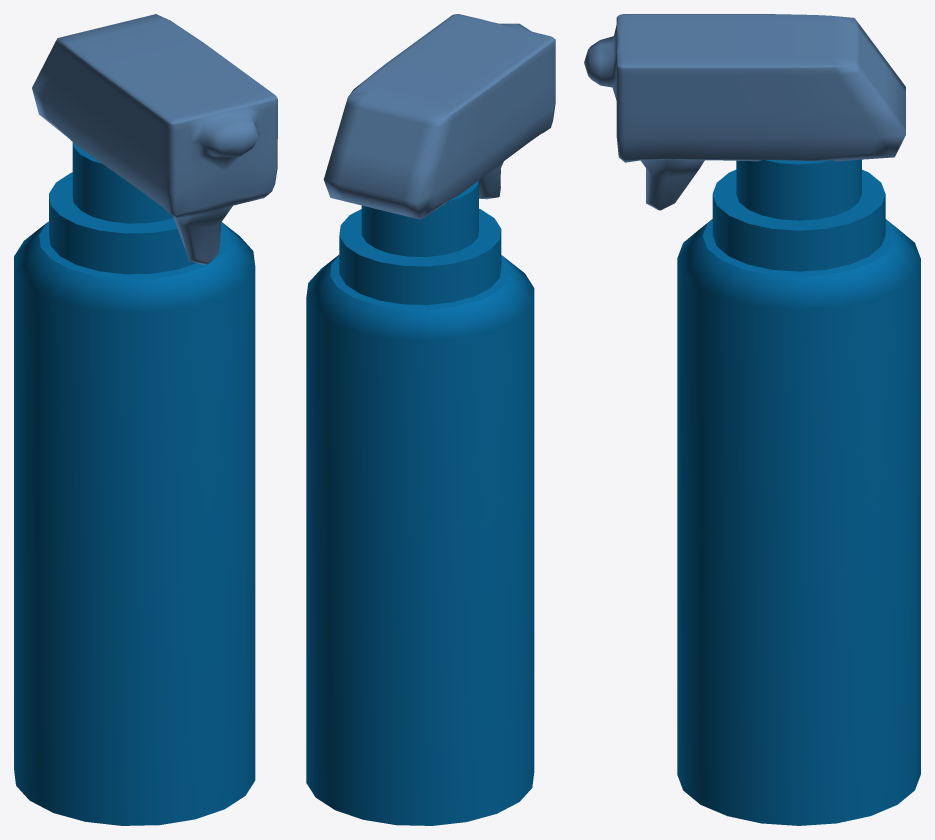
The model's file is vaporisateur.fbx.
The picture shows the model from 3 angles, left to right: view 1: azimuth 30°, elevation 25°; view 2: azimuth 150°, elevation 25°; view 3: azimuth 270°, elevation 25°; orthographic projection. The views are drawn at different scales.
Visible parts, largest first — view 1: group2_pCube2; view 2: group2_pCube2; view 3: group2_pCube2.
Boxes of the visible parts, x1,y1,x2,y2 form: group2_pCube2: [14, 14, 277, 825]; group2_pCube2: [306, 14, 555, 825]; group2_pCube2: [584, 14, 920, 825].
Size of the model in its own units: 0.3107 by 1.03 by 0.4293.
